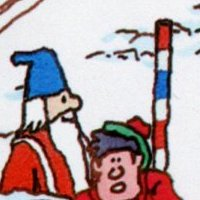wb: (10, 45, 83, 137)
